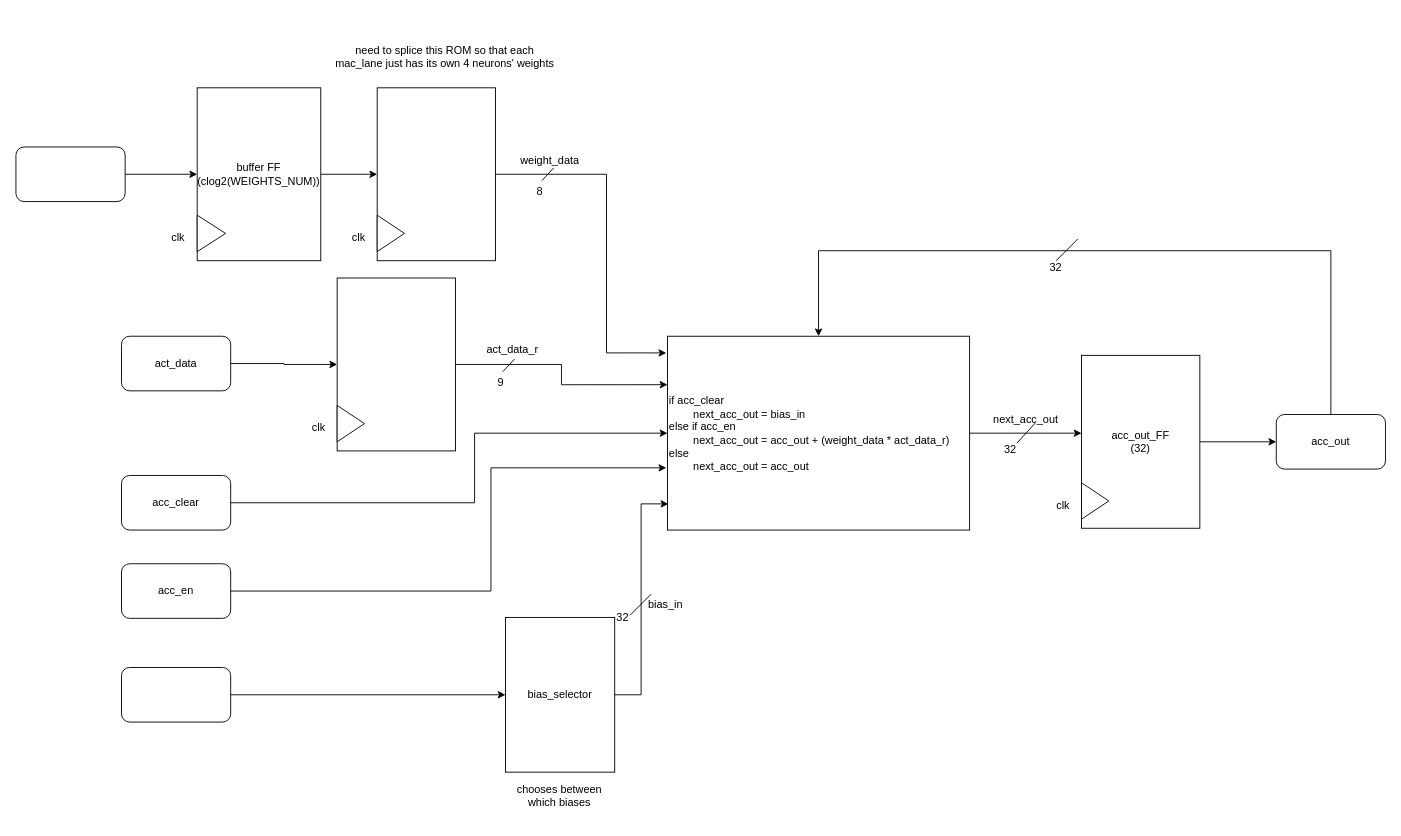
This 1401x836 diagram has some shape labels left out. The box of each missing label's shape, as (x1, y1, x2, y2) in pixels:
act_data_FF (9): (336, 277, 455, 451)
bias_addr: (121, 667, 231, 722)
weight_addr: (15, 146, 125, 202)
Weights ROM: (376, 87, 495, 261)
